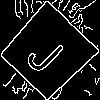J: (23, 26, 74, 77)
